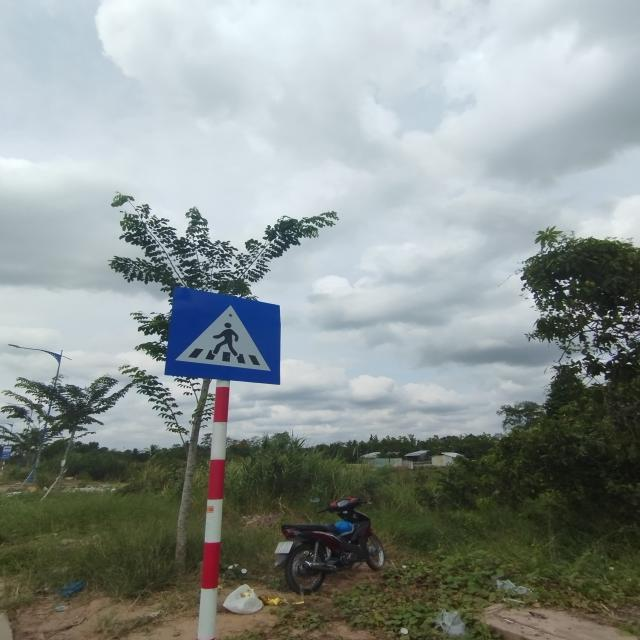Giao_Nhau_Duong_Uu_Tien: (164, 287, 280, 384)
